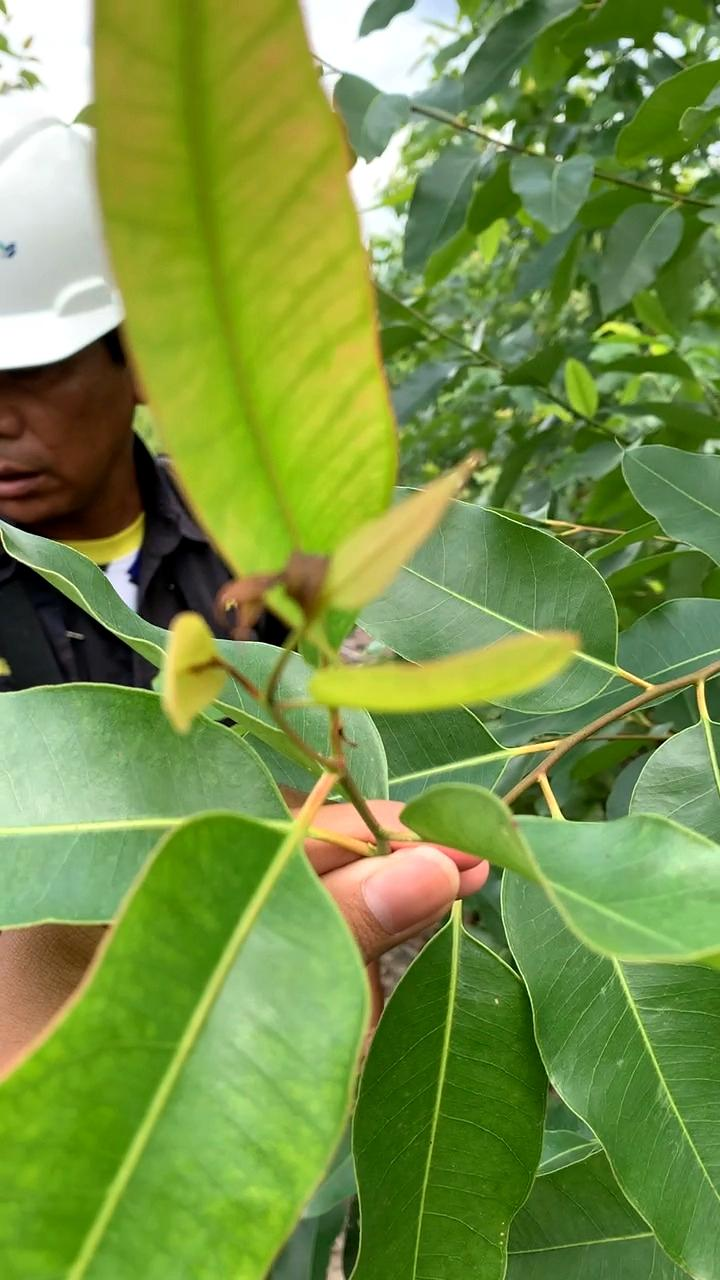Helopeltis-Withered Sprout: (219, 553, 331, 639)
